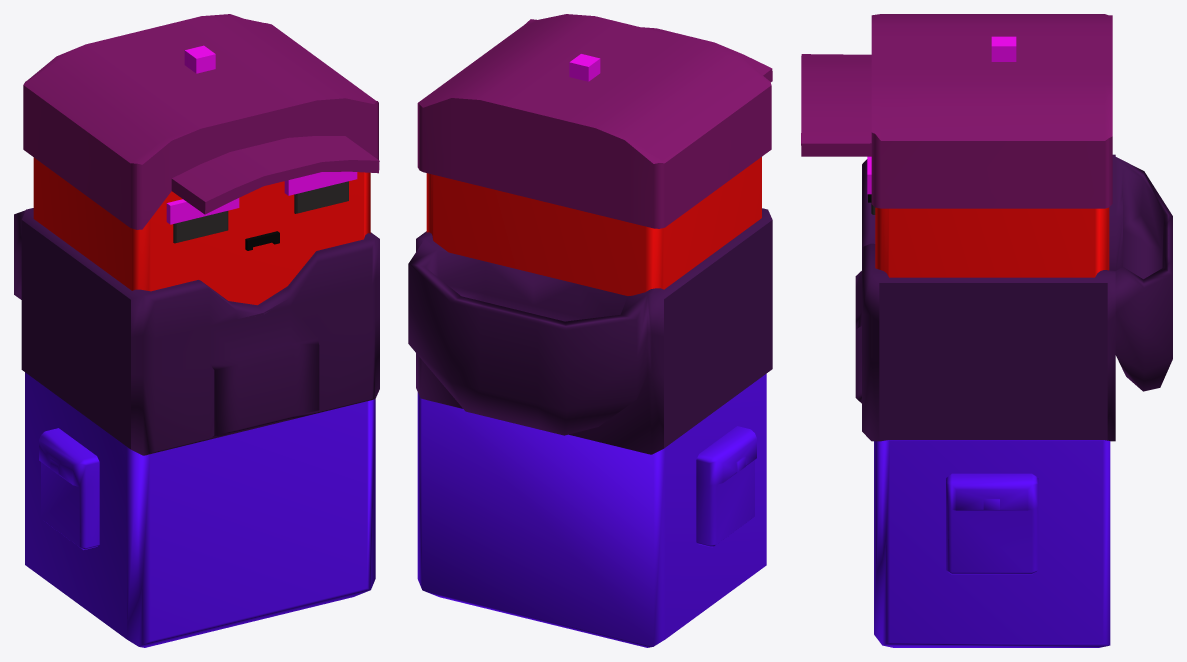
The model's file is Student A.fbx.
3 renders of one model, left to right at view 1: azimuth 30°, elevation 25°; view 2: azimuth 150°, elevation 25°; view 3: azimuth 270°, elevation 25°, orthographic. The views are drawn at different scales.
Parts seen in each view (by area): view 1: Student_A (×9); view 2: Student_A (×5); view 3: Student_A (×5).
Part boxes in pixels (box(x1,y1,x2,y2)): Student_A (×9): box(14, 14, 379, 647); Student_A (×5): box(408, 14, 772, 647); Student_A (×5): box(801, 14, 1172, 647).
Size of the model in its own units: 102 by 176 by 106.
